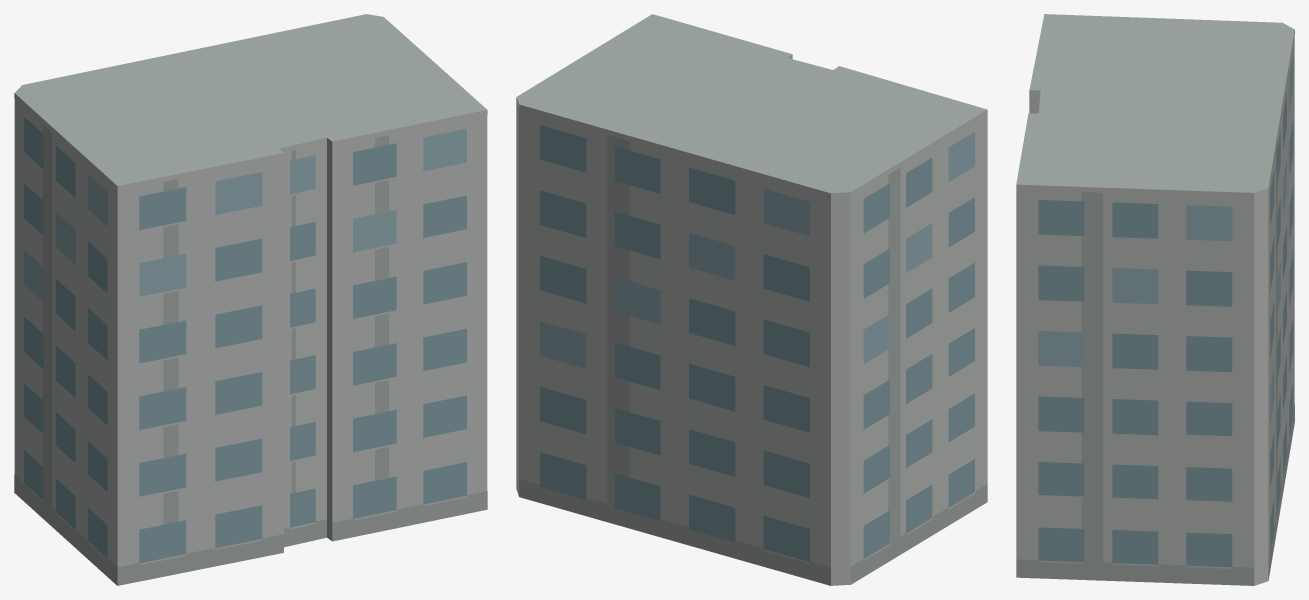
File: survey-upis-32963056.glb
3 views of the same model, side by side, from view 1: azimuth 30°, elevation 25°; view 2: azimuth 150°, elevation 25°; view 3: azimuth 270°, elevation 25° (orthographic).
Parts seen in each view (by area): view 1: survey-upis-32963056.tmp; view 2: survey-upis-32963056.tmp; view 3: survey-upis-32963056.tmp.
Part boxes in pixels (x1,y1,x2,y2): survey-upis-32963056.tmp: [14, 14, 487, 585]; survey-upis-32963056.tmp: [516, 14, 987, 585]; survey-upis-32963056.tmp: [1016, 14, 1294, 585].
Bounding box in the file's own units: 18.36 × 18.8 × 12.09.
